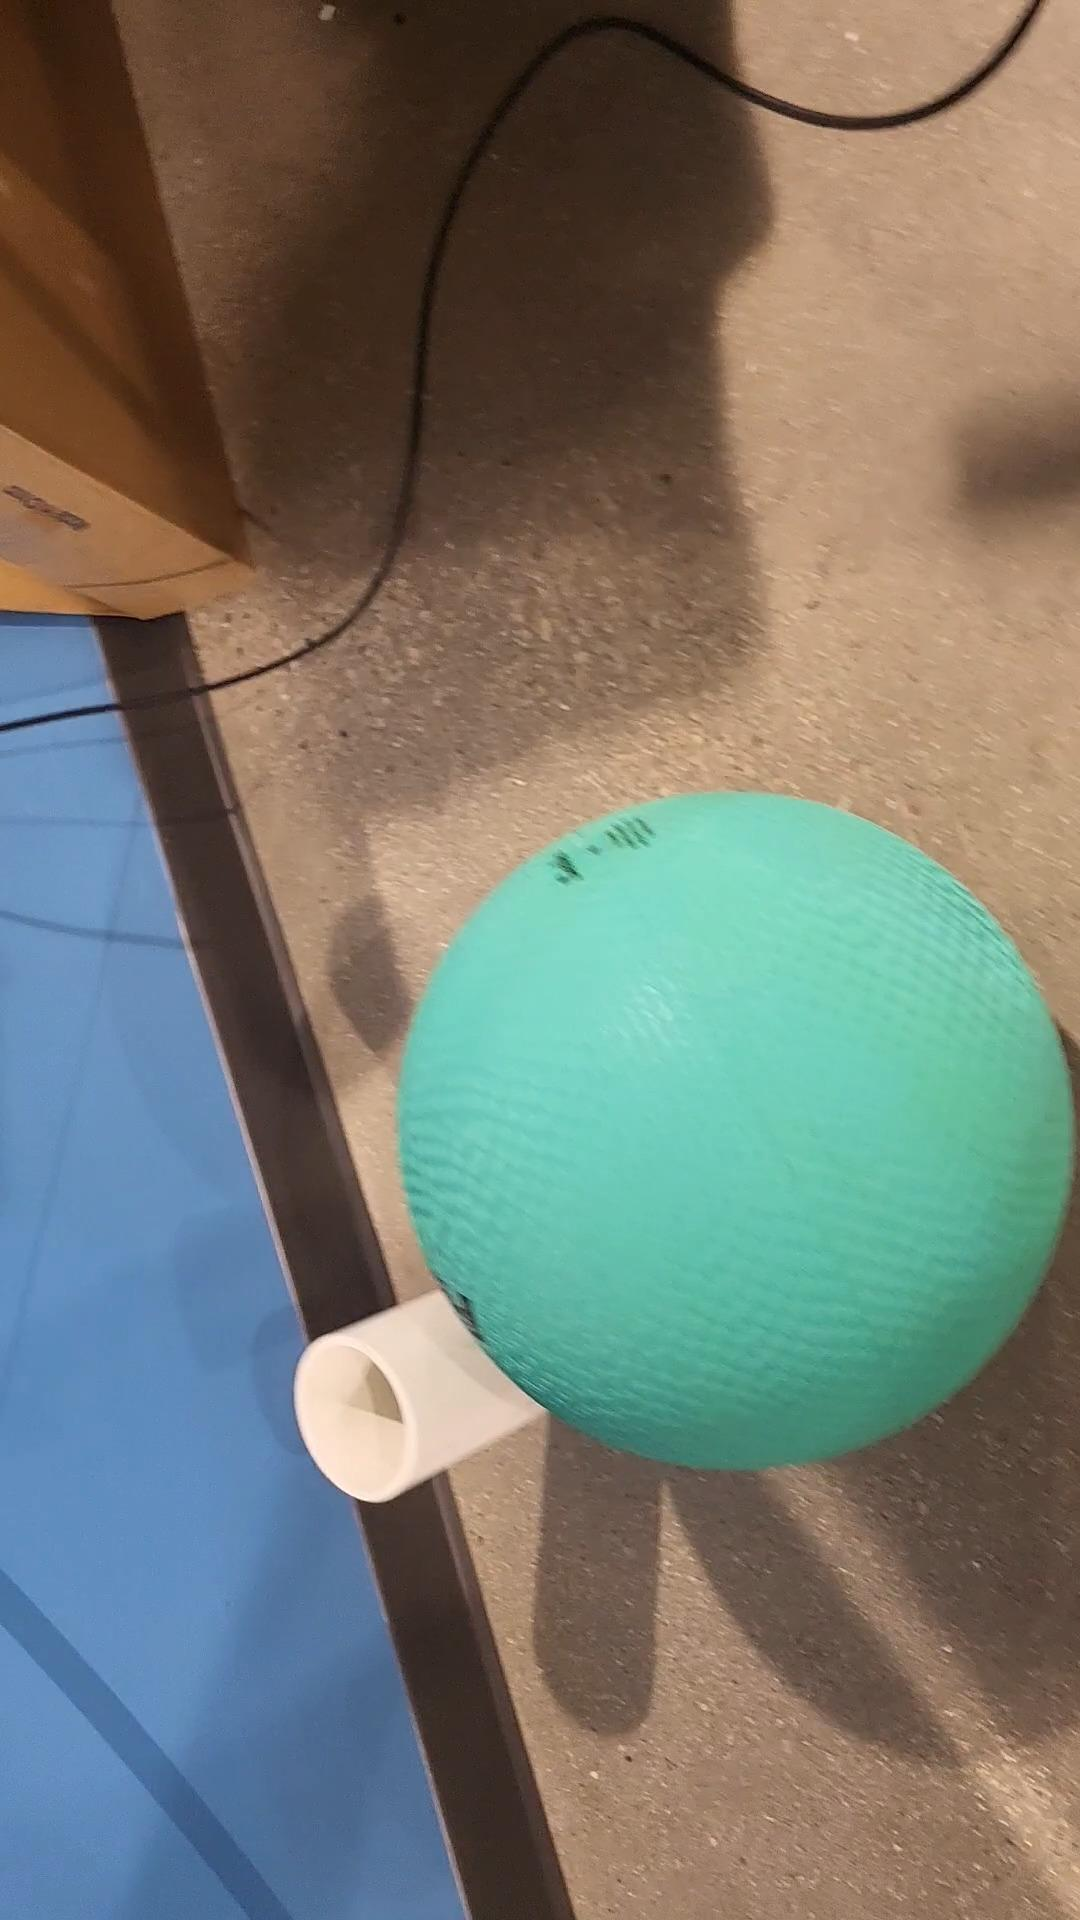algae: (407, 793, 1072, 1473)
coral: (302, 1280, 542, 1502)
